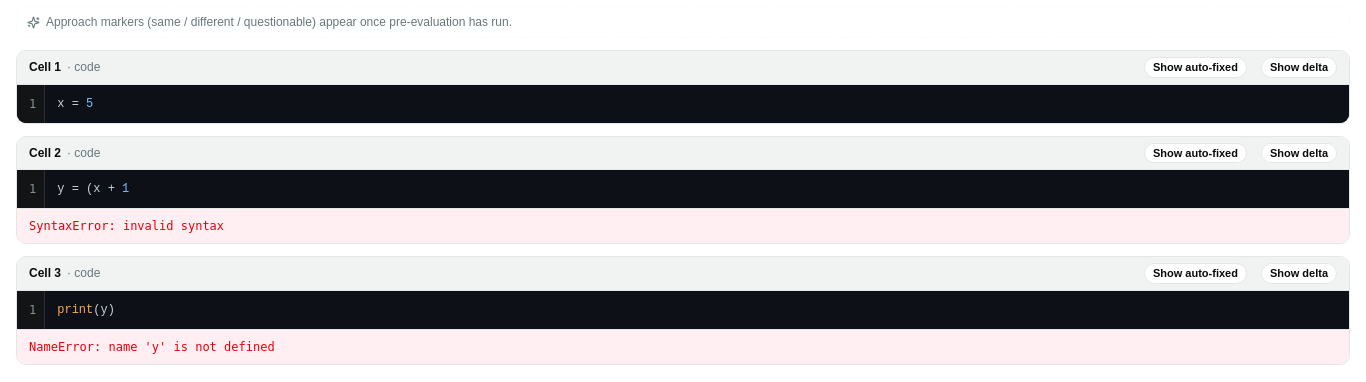
Test: ExecutionOutput autofix view › toggles back to the original and removes the frame
What coordinates should you click on to do the following:
click the button "Show auto-fixed" in the row of "Cell 2"
I would click on:
 (1196, 153)
Its box is x1=1144 y1=142 x2=1247 y2=163.
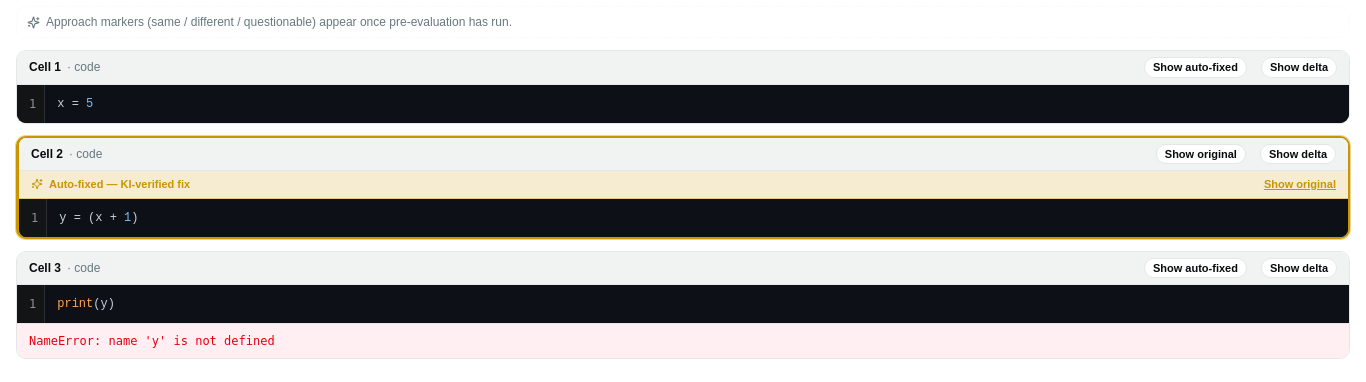
expect the text "Cell 2" has class "cell-autofixed": met, box x1=16 y1=136 x2=1350 y2=238
What coordinates should you click on to do the following:
click the button "Show original" in the row of "Cell 2"
I would click on:
 (1201, 154)
Its box is x1=1156 y1=144 x2=1246 y2=164.
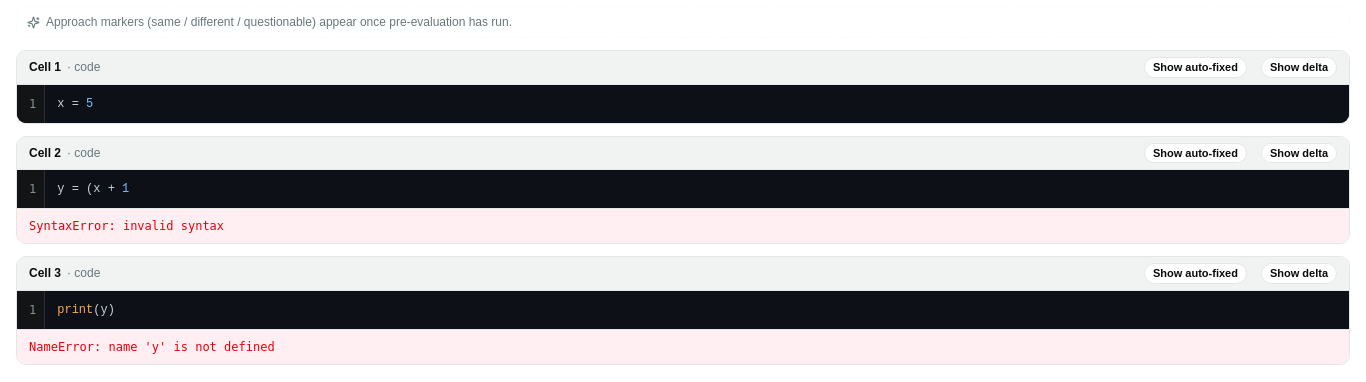
expect the text "SyntaxError: invalid syntax" is shown: met, box x1=17 y1=208 x2=1349 y2=243
